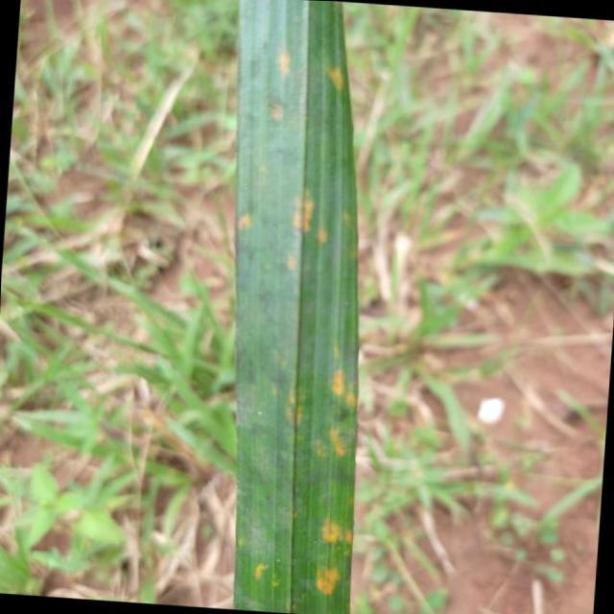Kalium: (232, 0, 363, 614)
